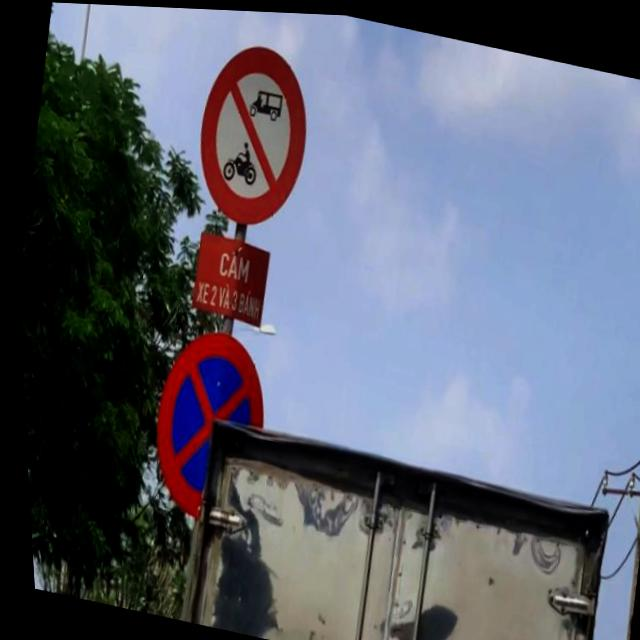Cam dung xe va do xe: (123, 307, 289, 542)
